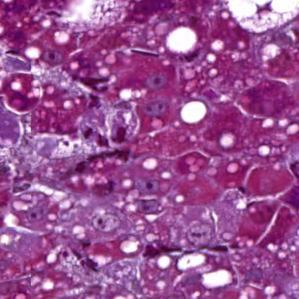ballooning: (225, 0, 299, 36), (0, 69, 46, 117)
